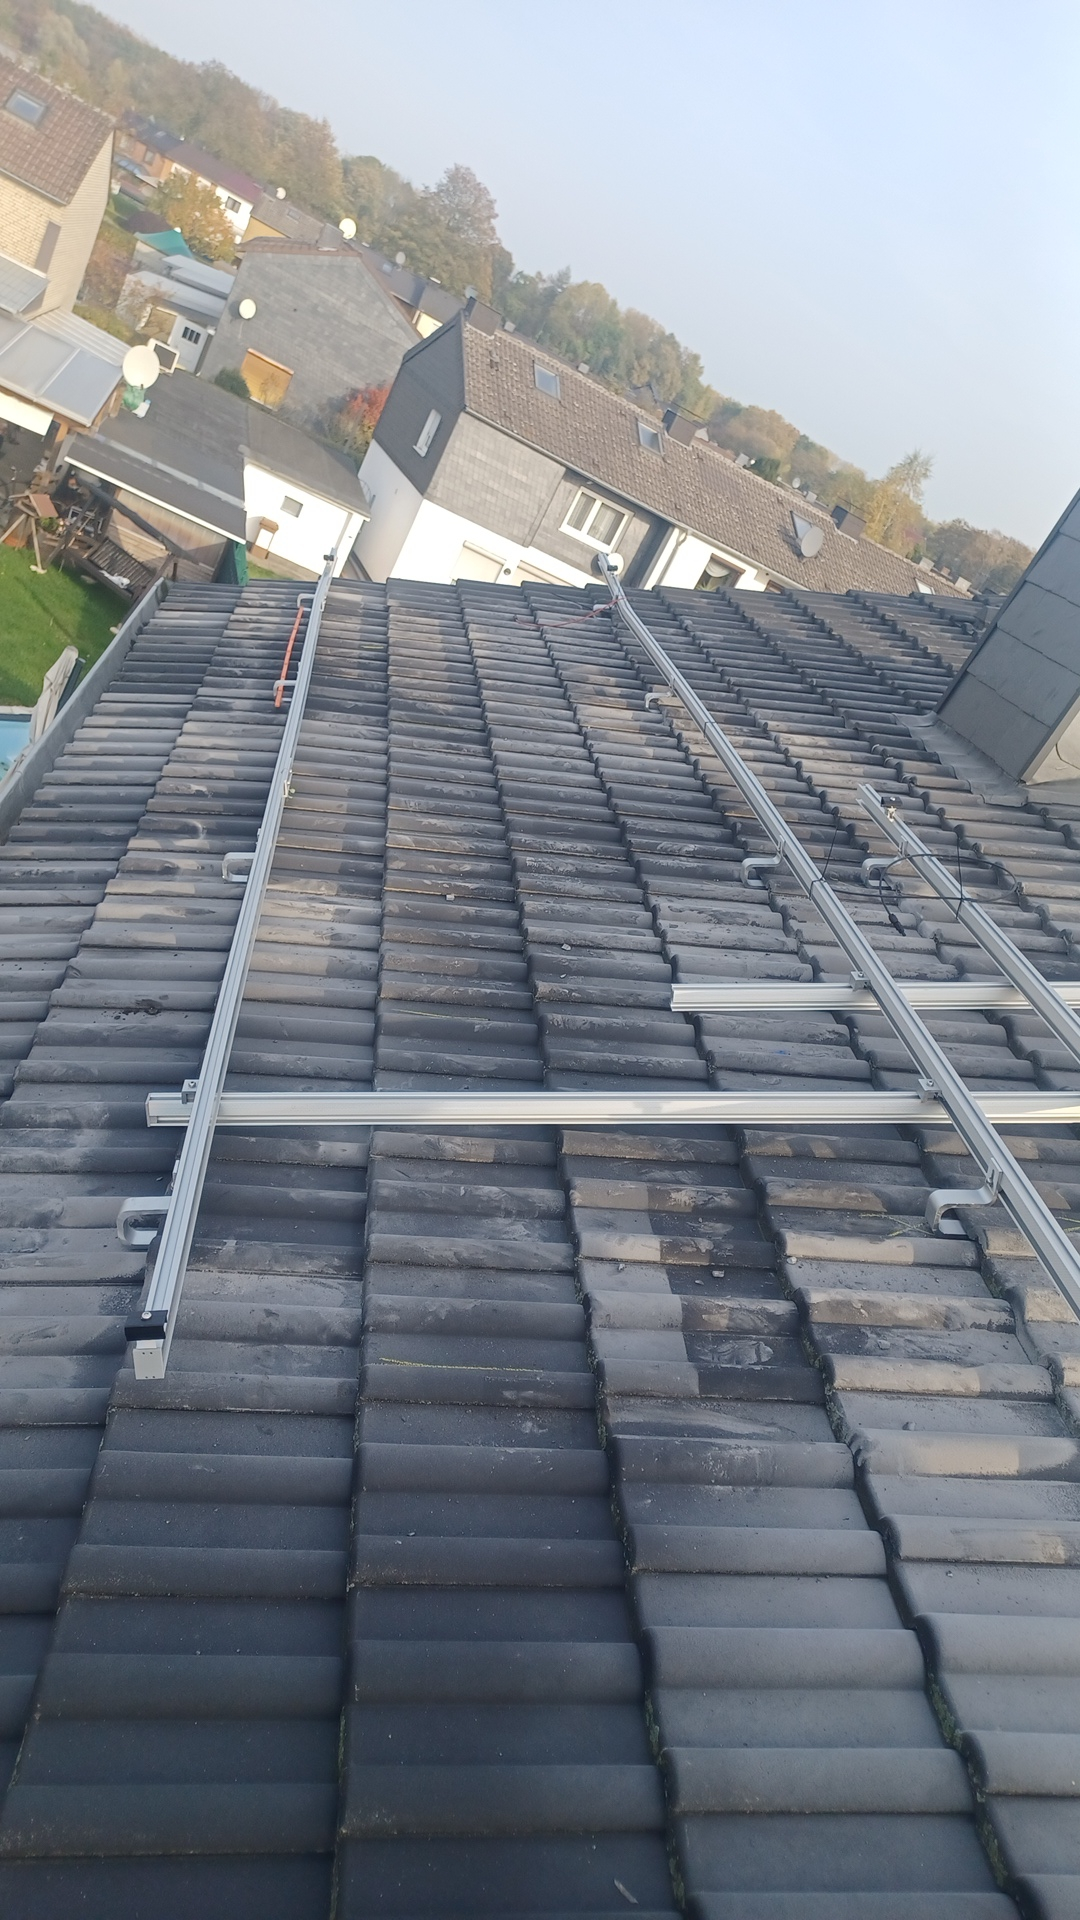hook: (924, 1156, 1004, 1240), (117, 1160, 187, 1247), (861, 835, 909, 889), (740, 835, 786, 887), (222, 825, 262, 884), (272, 662, 305, 702), (645, 675, 676, 713), (297, 575, 326, 611), (593, 592, 621, 620)
